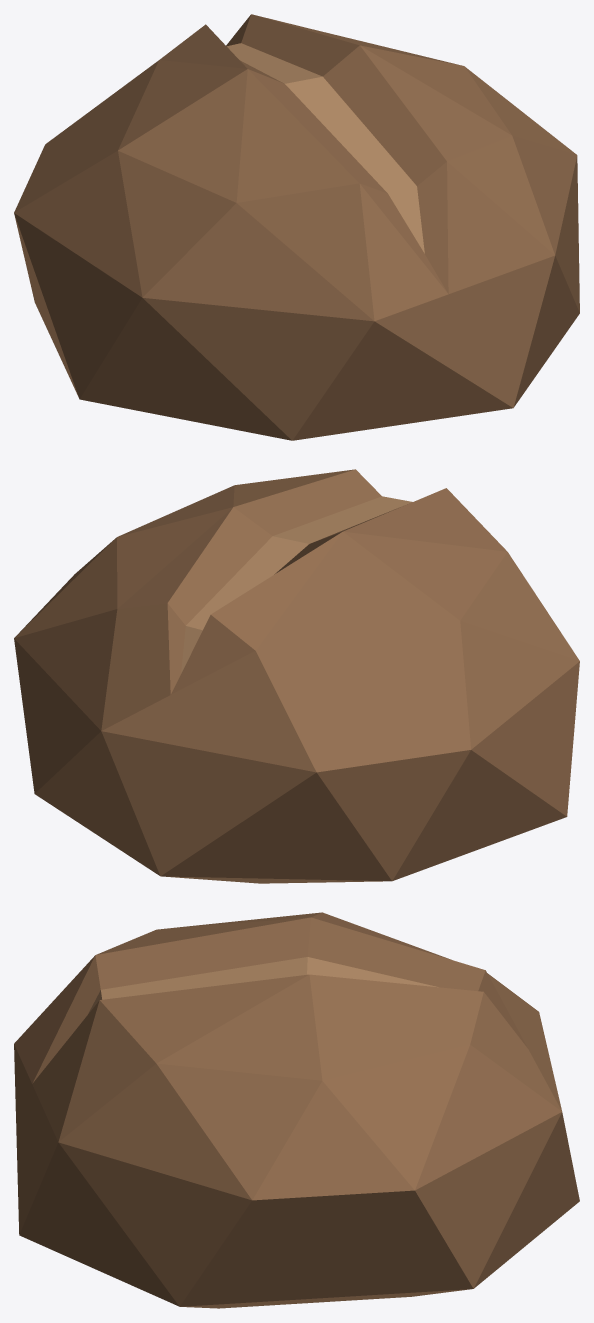
Rendered from BreadRoll.glb.
The picture shows the model from 3 angles, top to bottom: view 1: azimuth 30°, elevation 25°; view 2: azimuth 150°, elevation 25°; view 3: azimuth 270°, elevation 25°; orthographic projection.
Parts seen in each view (by area): view 1: BreadRoll; view 2: BreadRoll; view 3: BreadRoll.
Part boxes in pixels (bbox=[...]): BreadRoll: bbox=[14, 14, 579, 440]; BreadRoll: bbox=[14, 469, 579, 883]; BreadRoll: bbox=[14, 912, 579, 1308].
Size of the model in its own units: 0.1644 by 0.0945 by 0.1627.
